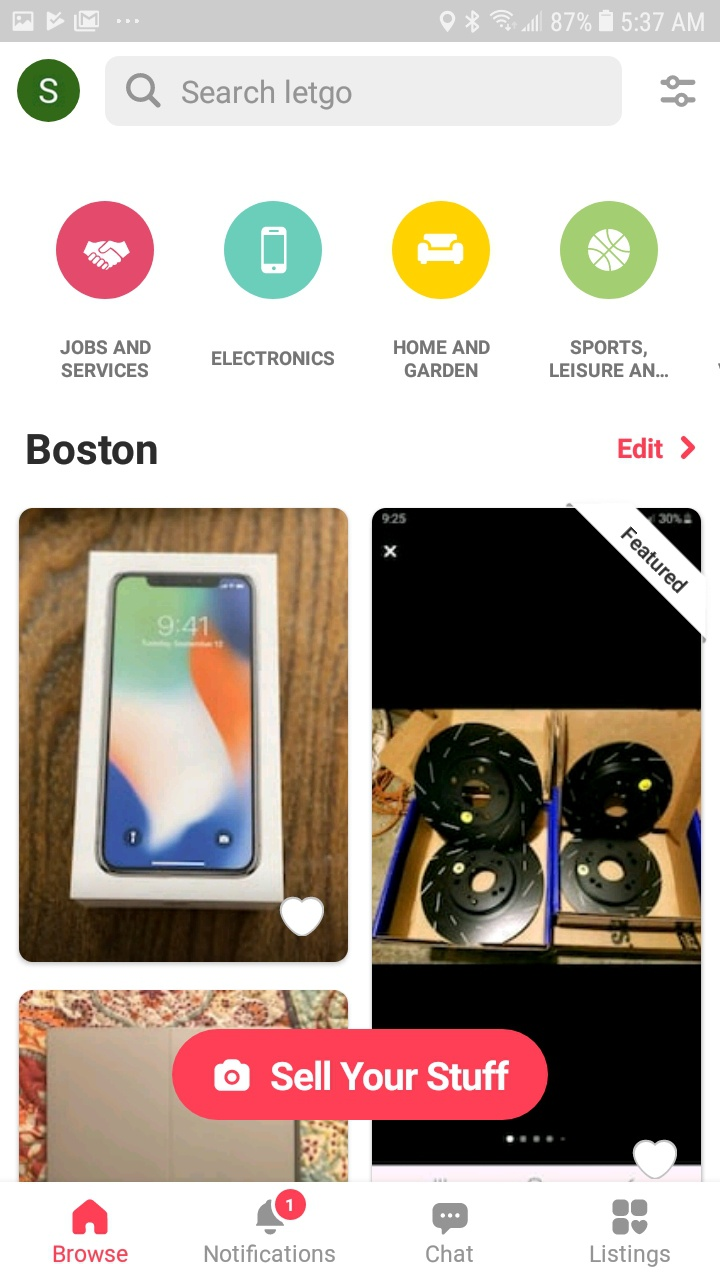EditText: (105, 56, 622, 127)
Icon: (256, 1188, 307, 1235), (280, 896, 325, 937), (633, 1140, 678, 1180), (611, 1198, 648, 1235), (72, 1198, 109, 1235), (126, 74, 162, 110), (432, 1202, 469, 1235), (660, 76, 696, 109), (681, 436, 696, 460)
Image: (372, 508, 702, 1182), (19, 508, 349, 963), (19, 989, 349, 1182), (391, 201, 491, 300), (560, 201, 659, 301), (56, 201, 155, 300), (224, 201, 323, 300), (17, 59, 81, 123)
Text: (182, 79, 353, 111), (550, 339, 669, 378), (27, 434, 158, 466), (394, 340, 491, 379), (60, 340, 152, 379), (204, 1243, 336, 1263), (212, 351, 335, 367), (590, 1245, 671, 1268), (53, 1244, 129, 1263), (618, 437, 664, 460), (426, 1243, 474, 1263)
TextButton: (172, 1029, 549, 1121)
UpperTaskBar: (1, 1, 720, 43)
